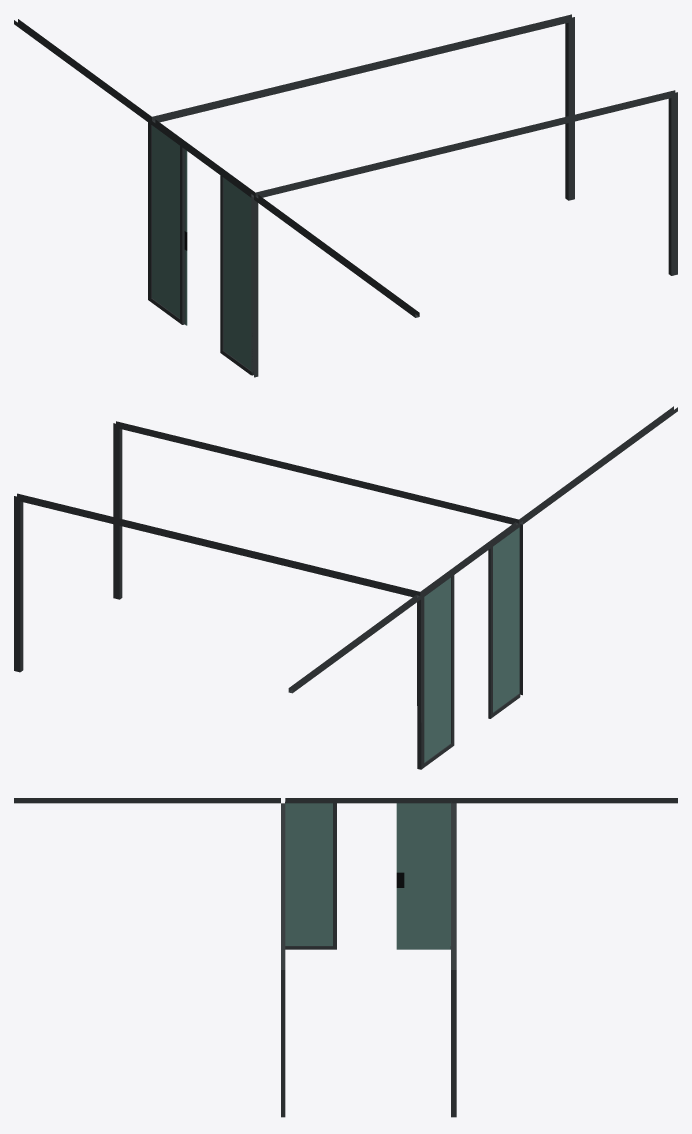
File: SM_Enviroment1.FBX
3 renders of one model, top to bottom at view 1: azimuth 30°, elevation 25°; view 2: azimuth 150°, elevation 25°; view 3: azimuth 270°, elevation 25°, orthographic. The views are drawn at different scales.
Visible parts, largest first — view 1: SM_Enviroment1_LOD0; view 2: SM_Enviroment1_LOD0; view 3: SM_Enviroment1_LOD0.
Part boxes in pixels (x1,y1,x2,y2): SM_Enviroment1_LOD0: (14, 14, 677, 377); SM_Enviroment1_LOD0: (14, 406, 677, 769); SM_Enviroment1_LOD0: (14, 798, 677, 1117).
Size of what is drawn, in the model's own units: 718 by 1177 by 295.
